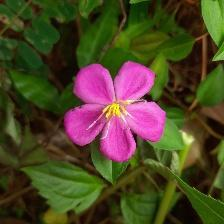malabar melastome: (62, 58, 171, 165)
